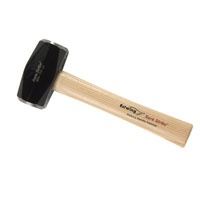hammer: (15, 38, 193, 148)
